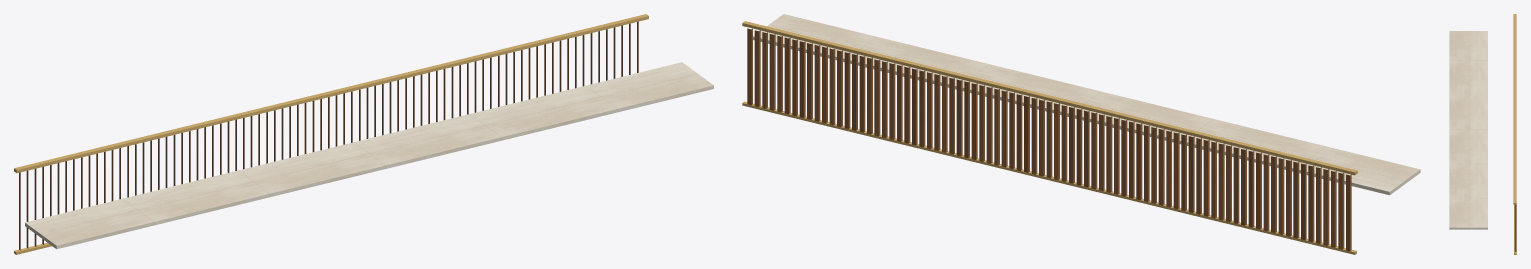
The model's file is desk_front.glb.
The picture shows the model from 3 angles, left to right: view 1: azimuth 30°, elevation 25°; view 2: azimuth 150°, elevation 25°; view 3: azimuth 270°, elevation 25°; orthographic projection. The views are drawn at different scales.
Parts seen in each view (by area): view 1: resort; view 2: resort; view 3: resort.
Boxes of the visible parts, box(x1,y1,x2,y2) form: resort: box(14, 14, 713, 254); resort: box(742, 14, 1420, 254); resort: box(1449, 14, 1516, 254).
Size of the model in its own units: 13.62 by 1.69 by 1.98.
Materials: 3 (2 with a texture image).
